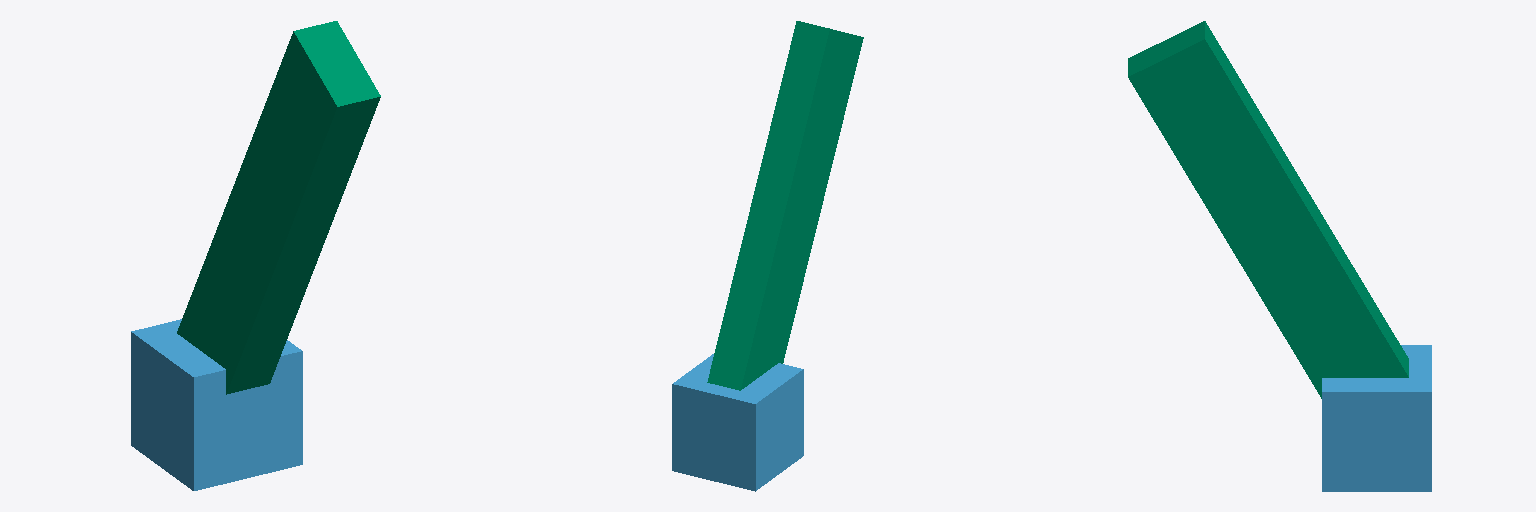
The robot description file, URDF, robot "crankshaft":
<?xml version="1.0" ?>
<robot name="crankshaft">
  <joint name="fixed" type="fixed">
    <origin rpy="0 0 0" xyz="0 0 0.1 "/>
    <parent link="world"/>
    <child link="base_link"/>
  </joint>

  <joint name="first_joint" type="continuous">
    <origin rpy="0.5 0 0" xyz="0 0 0.1 "/>
    <axis xyz="1 0 0"/>
    <parent link="base_link"/>
    <child link="link_1"/>
    <!--dynamics damping="0.01"/-->
    <dynamics damping="0.0"/>
    <limit effort="10000" velocity="0"/>
  </joint>
  
  <link name="world"/>

  <link name="base_link">
    <inertial>
      <mass value="5"/>
      <origin rpy="0 0 0" xyz="0 0 0"/>
      <inertia ixx="1" ixy="0.0" ixz="0.0" iyy="1" iyz="0.0" izz="1"/>
    </inertial>

    <visual>
      <origin rpy="0 0 0" xyz="0.0 0 0.05"/>
      <geometry>
        <box size="0.25 0.25 0.25"/>
      </geometry>
    </visual>

  </link>
  
  <link name="link_1">
    <inertial>
      <mass value="1"/>
      <origin rpy="0 0 0" xyz="0 0 0.5"/>
      <inertia ixx="1" ixy="0.0" ixz="0.0" iyy="1" iyz="0.0" izz="1"/>
    </inertial>

    <visual>
      <origin rpy="0 0 0" xyz="0.0 0 0.5"/>
      <geometry>
        <box size="0.1 0.2 1"/>
      </geometry>
    </visual>

  </link>
	
 <gazebo reference="link_1">
   <material>Gazebo/Green</material>
 </gazebo>
</robot>

--- Render facts (derived) ---
3 views of the same robot in one strip: view 1: azimuth 30°, elevation 25°; view 2: azimuth 150°, elevation 25°; view 3: azimuth 270°, elevation 25° (orthographic).
Model crankshaft with 3 links and 2 joints (1 continuous, 1 fixed), rooted at world, posed all joints at 0.
Visible links, largest first — view 1: link_1, base_link; view 2: link_1, base_link; view 3: link_1, base_link.
Boxes of the visible links, <box> form: link_1: <box>177,21,380,394</box>; base_link: <box>131,319,302,490</box>; link_1: <box>707,21,863,390</box>; base_link: <box>672,354,803,491</box>; link_1: <box>1128,21,1408,398</box>; base_link: <box>1322,345,1431,491</box>.
Bounding box of the posed robot: 0.25 × 0.6922 × 1.1 m (x, y, z).
Geometry: primitives only (box / cylinder / sphere), no mesh files.